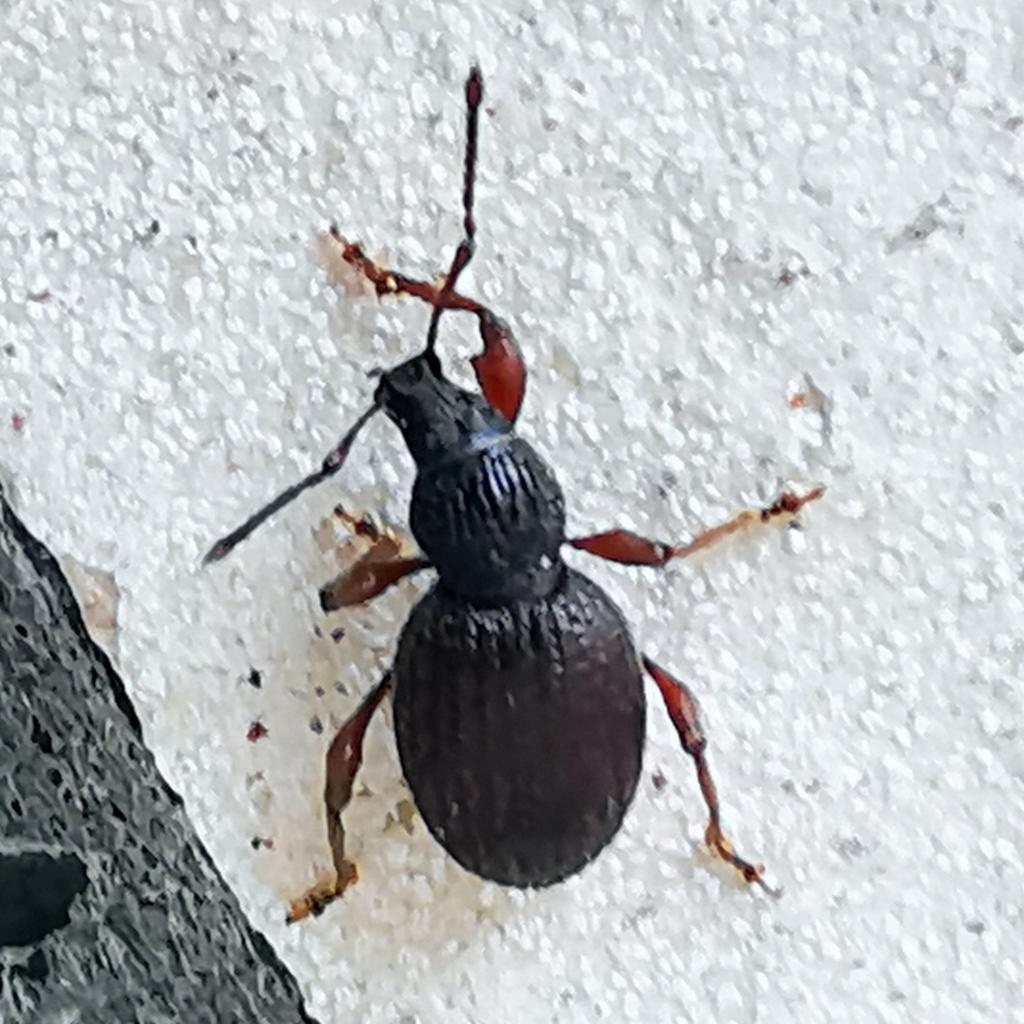weevils: (140, 7, 867, 1024)
